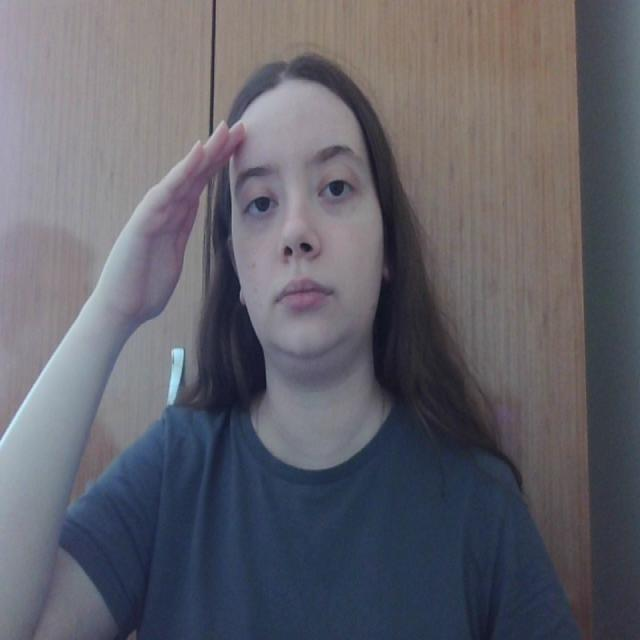Merhaba: (95, 75, 266, 337)
